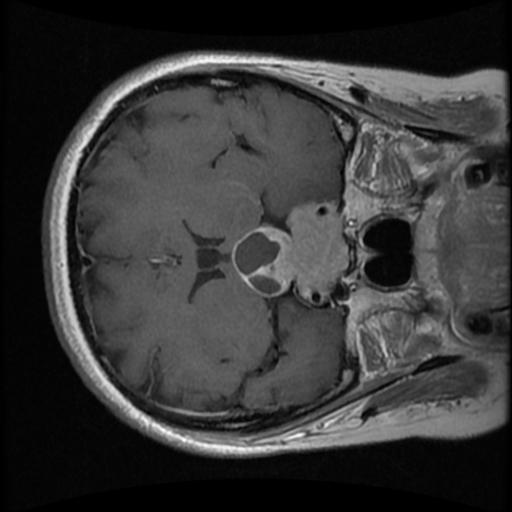pituitary tumour: (227, 200, 347, 300)
